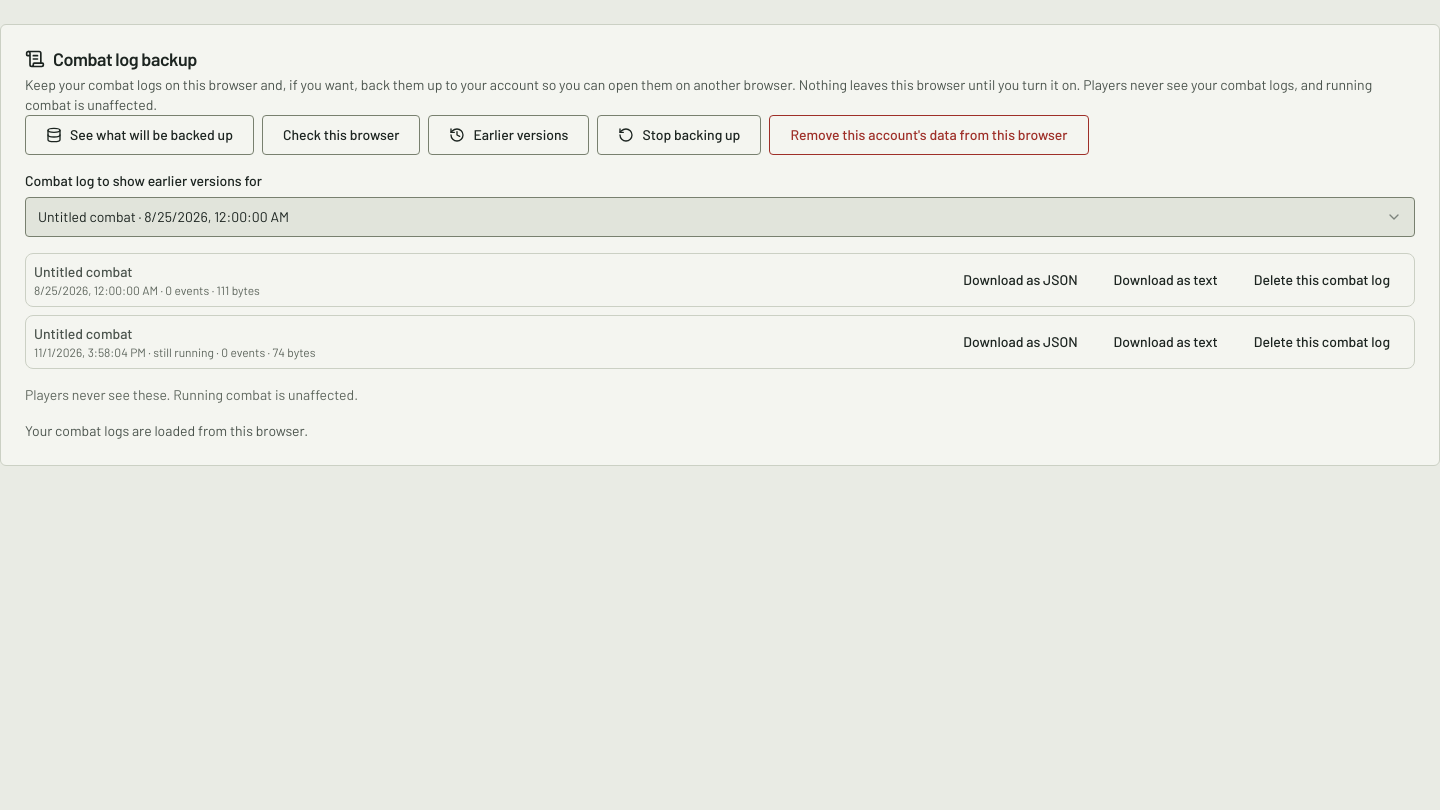
Test: CombatLogArchiveSyncControls durability guards › drops the previous archive versions when the history picker moves
Click the button "Earlier versions" at (509, 135), box [428,115,589,155]
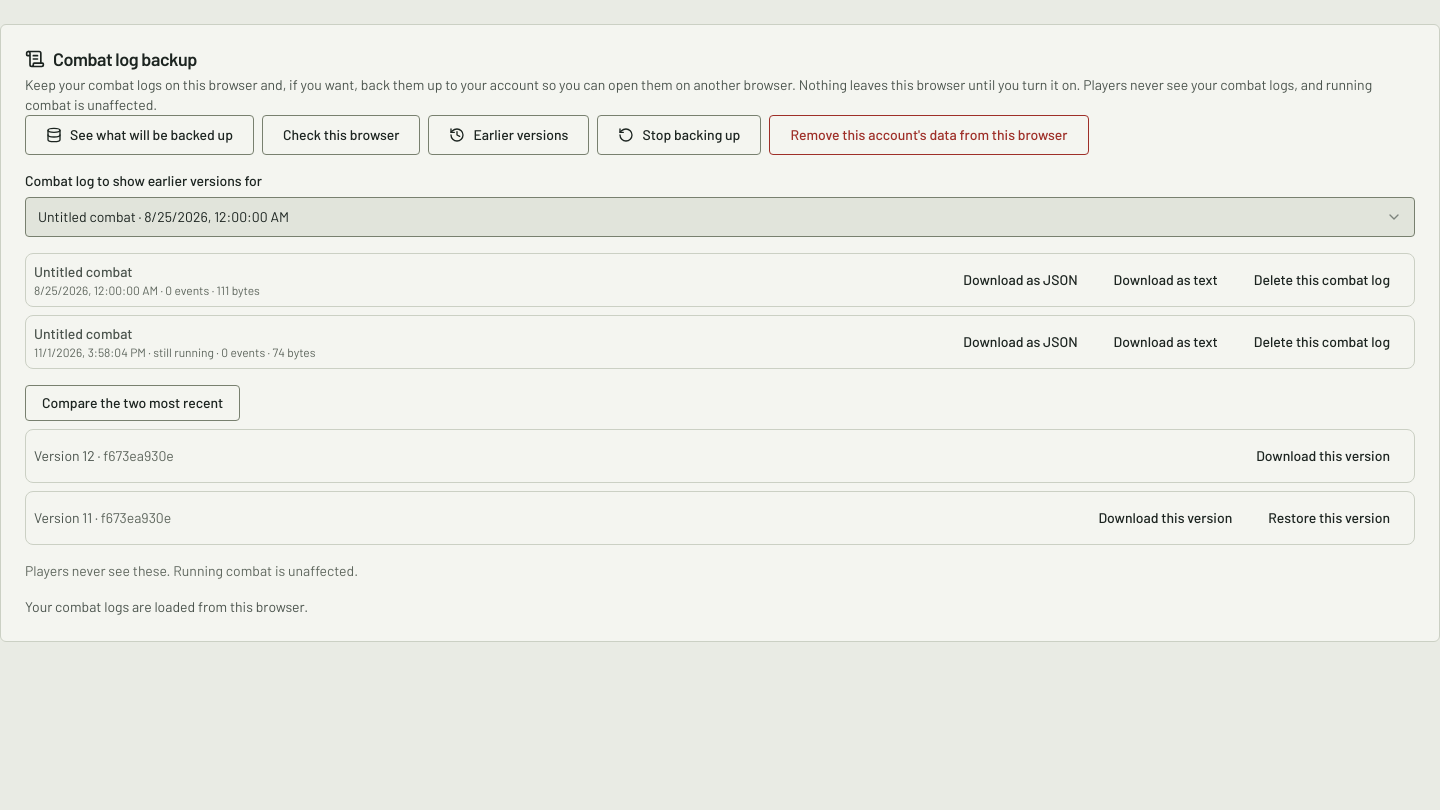
Click the button "Compare the two most recent" at (133, 403), box [25,385,240,421]
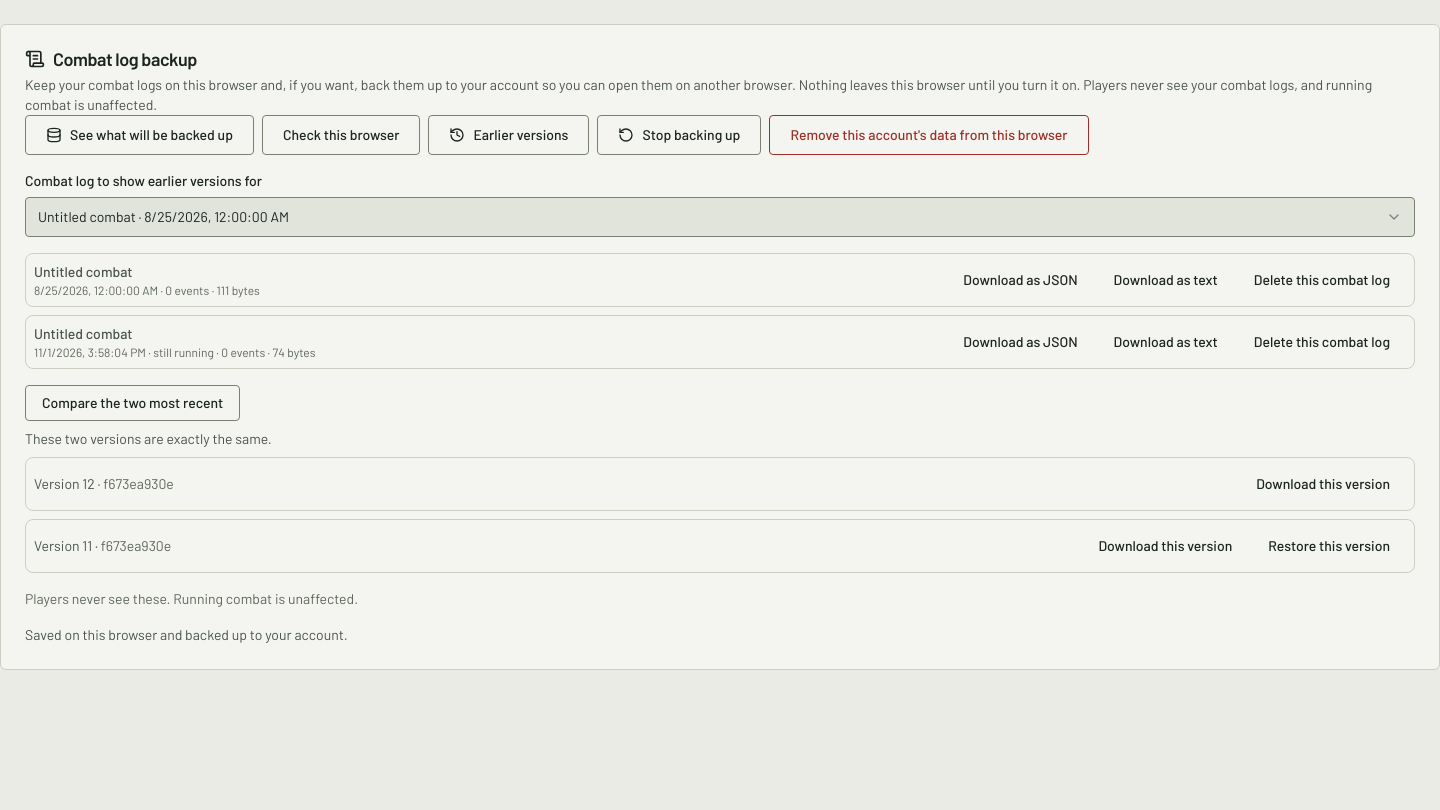
Result: the text "These two versions are exactly the same." is shown at [25,430,272,447]
Click the dropdown at (163, 216), box [25,197,1415,237]
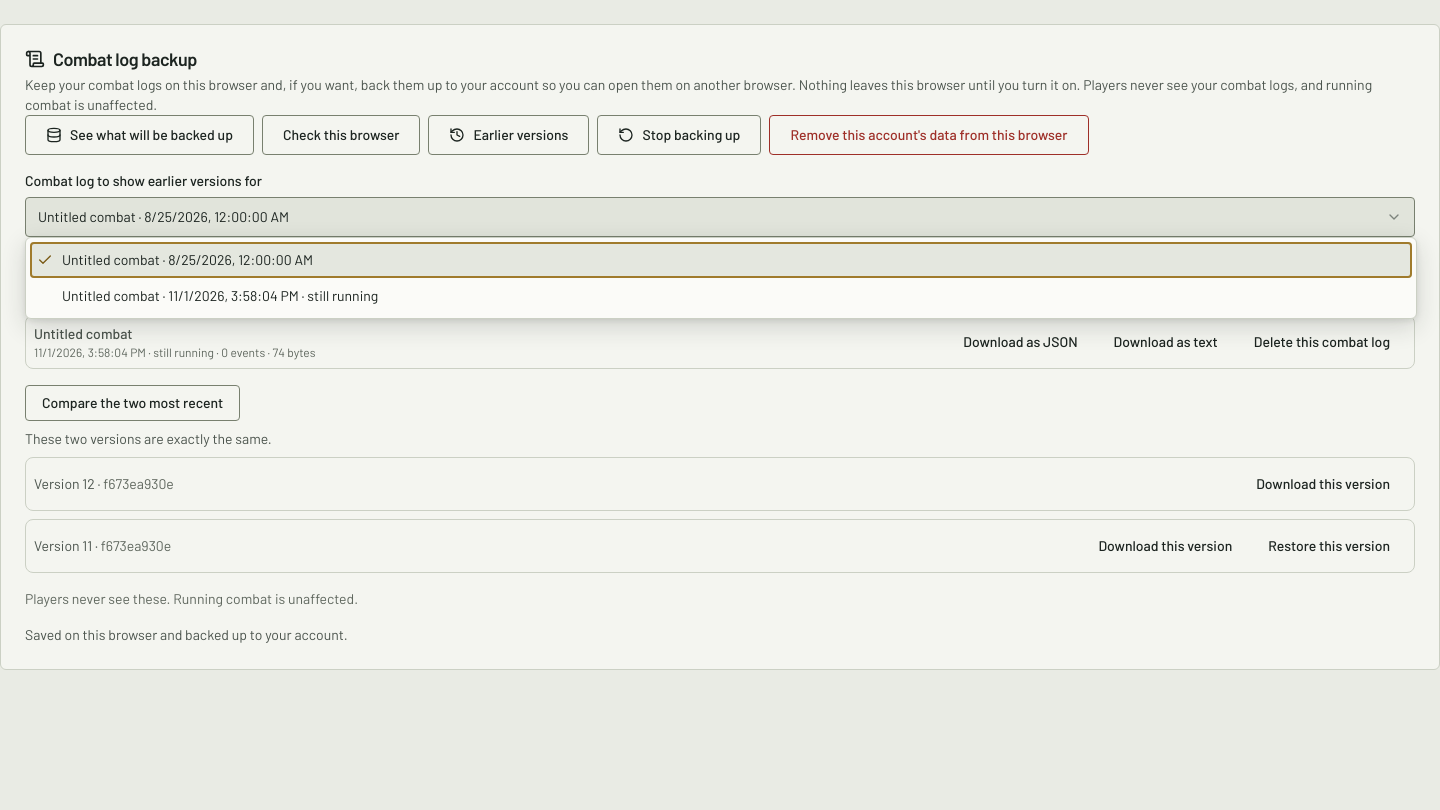
Click the option "Untitled combat · 11/1/2026, 3:58:04 PM · still running" at (220, 296), box [62,287,378,304]
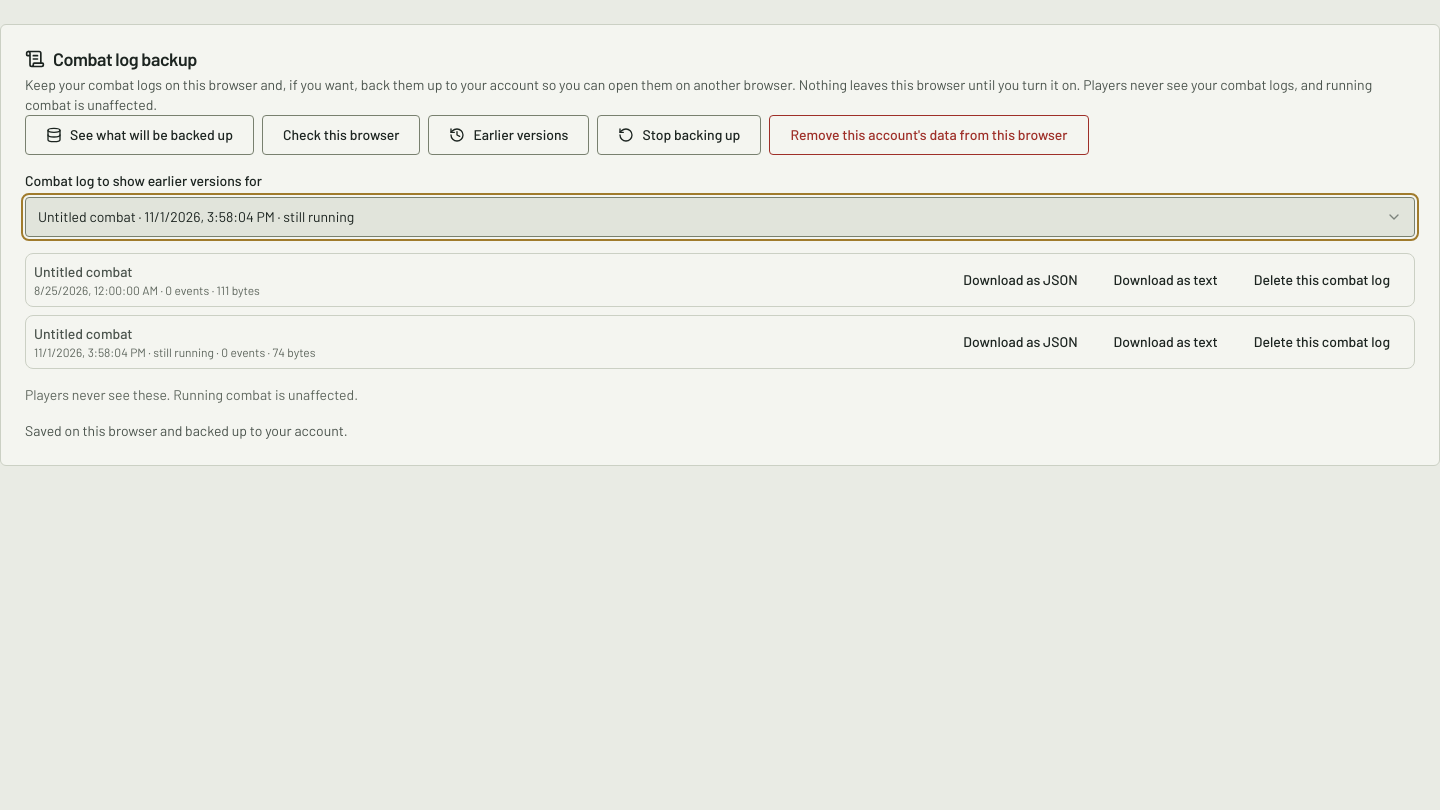
Result: the text "These two versions are exactly the same." is gone
Result: the button "Restore this version" is gone
